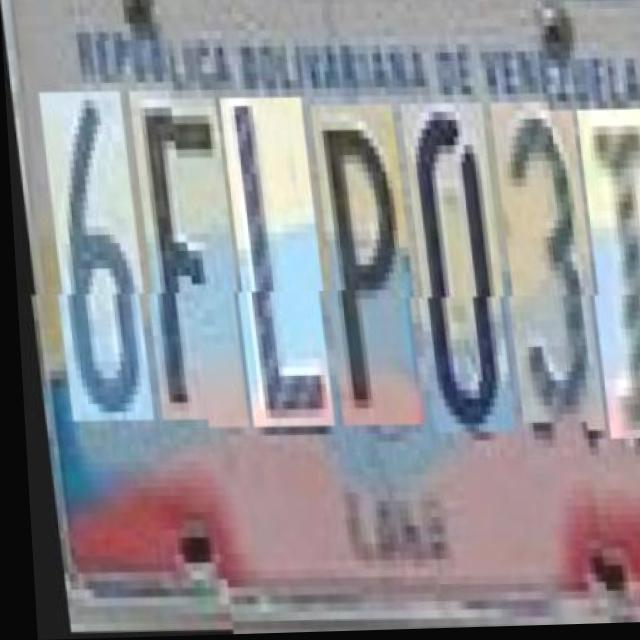0: (397, 103, 508, 435)
3: (486, 102, 597, 426)
6: (37, 99, 148, 431)
f: (126, 98, 243, 430)
i: (571, 102, 640, 433)
l: (216, 96, 328, 429)
p: (307, 103, 418, 427)
